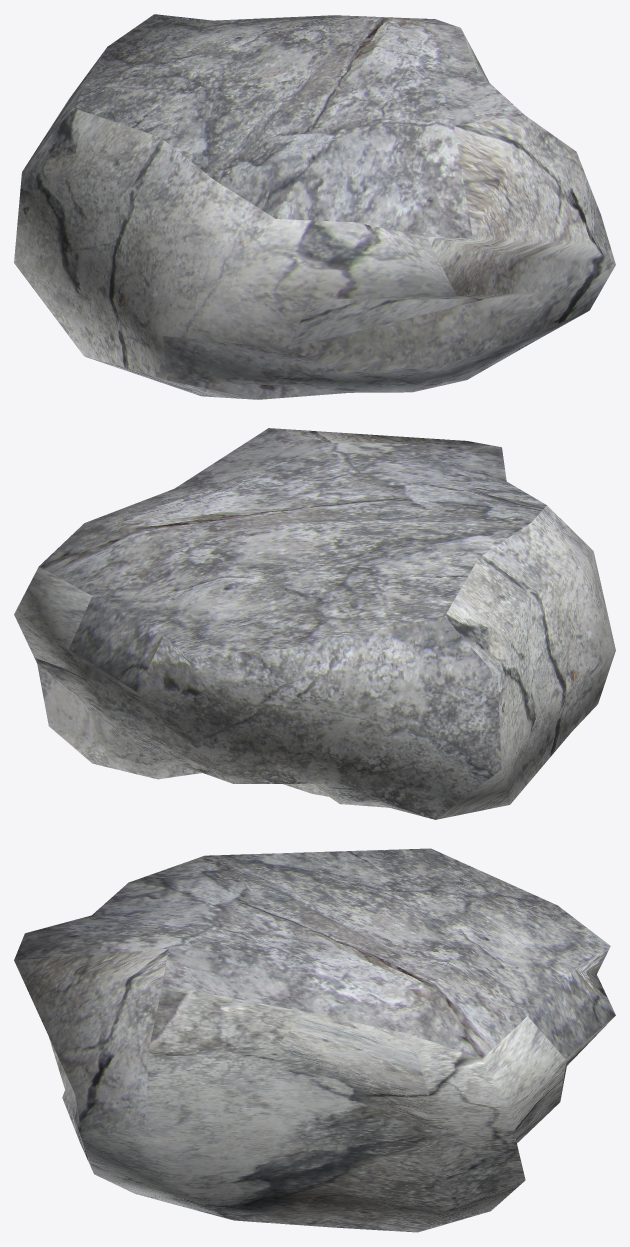
The model's file is Piedra2.fbx.
3 renders of one model, top to bottom at view 1: azimuth 30°, elevation 25°; view 2: azimuth 150°, elevation 25°; view 3: azimuth 270°, elevation 25°, orthographic.
Visible parts, largest first — view 1: Piedra; view 2: Piedra; view 3: Piedra.
Boxes of the visible parts, left/top/right/bottom form: Piedra: left=14, top=14, right=615, bottom=399; Piedra: left=14, top=428, right=615, bottom=819; Piedra: left=14, top=848, right=615, bottom=1232.
Size of the model in its own units: 318 by 168 by 363.
